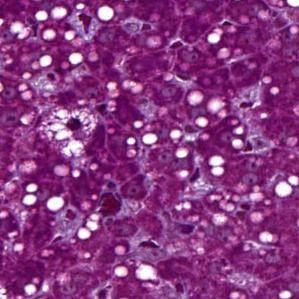ballooning: (37, 105, 104, 160)
